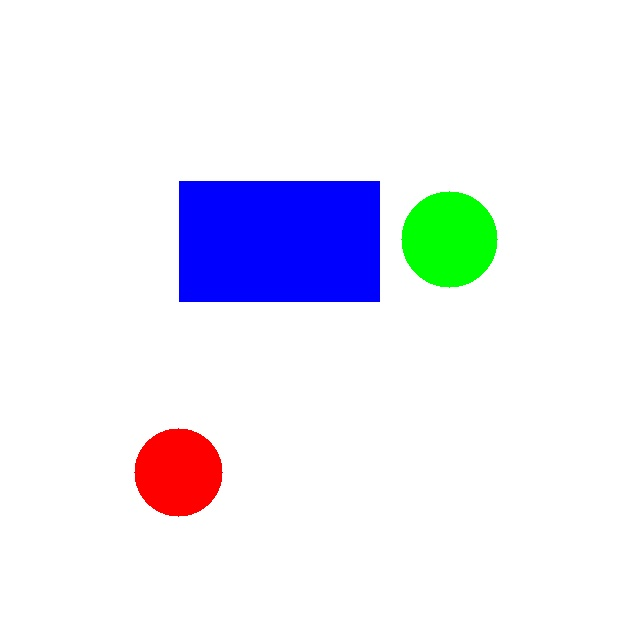cartao: (179, 181, 379, 301)
rosca_externa: (401, 191, 497, 287)
rosca_interna: (134, 428, 222, 516)
